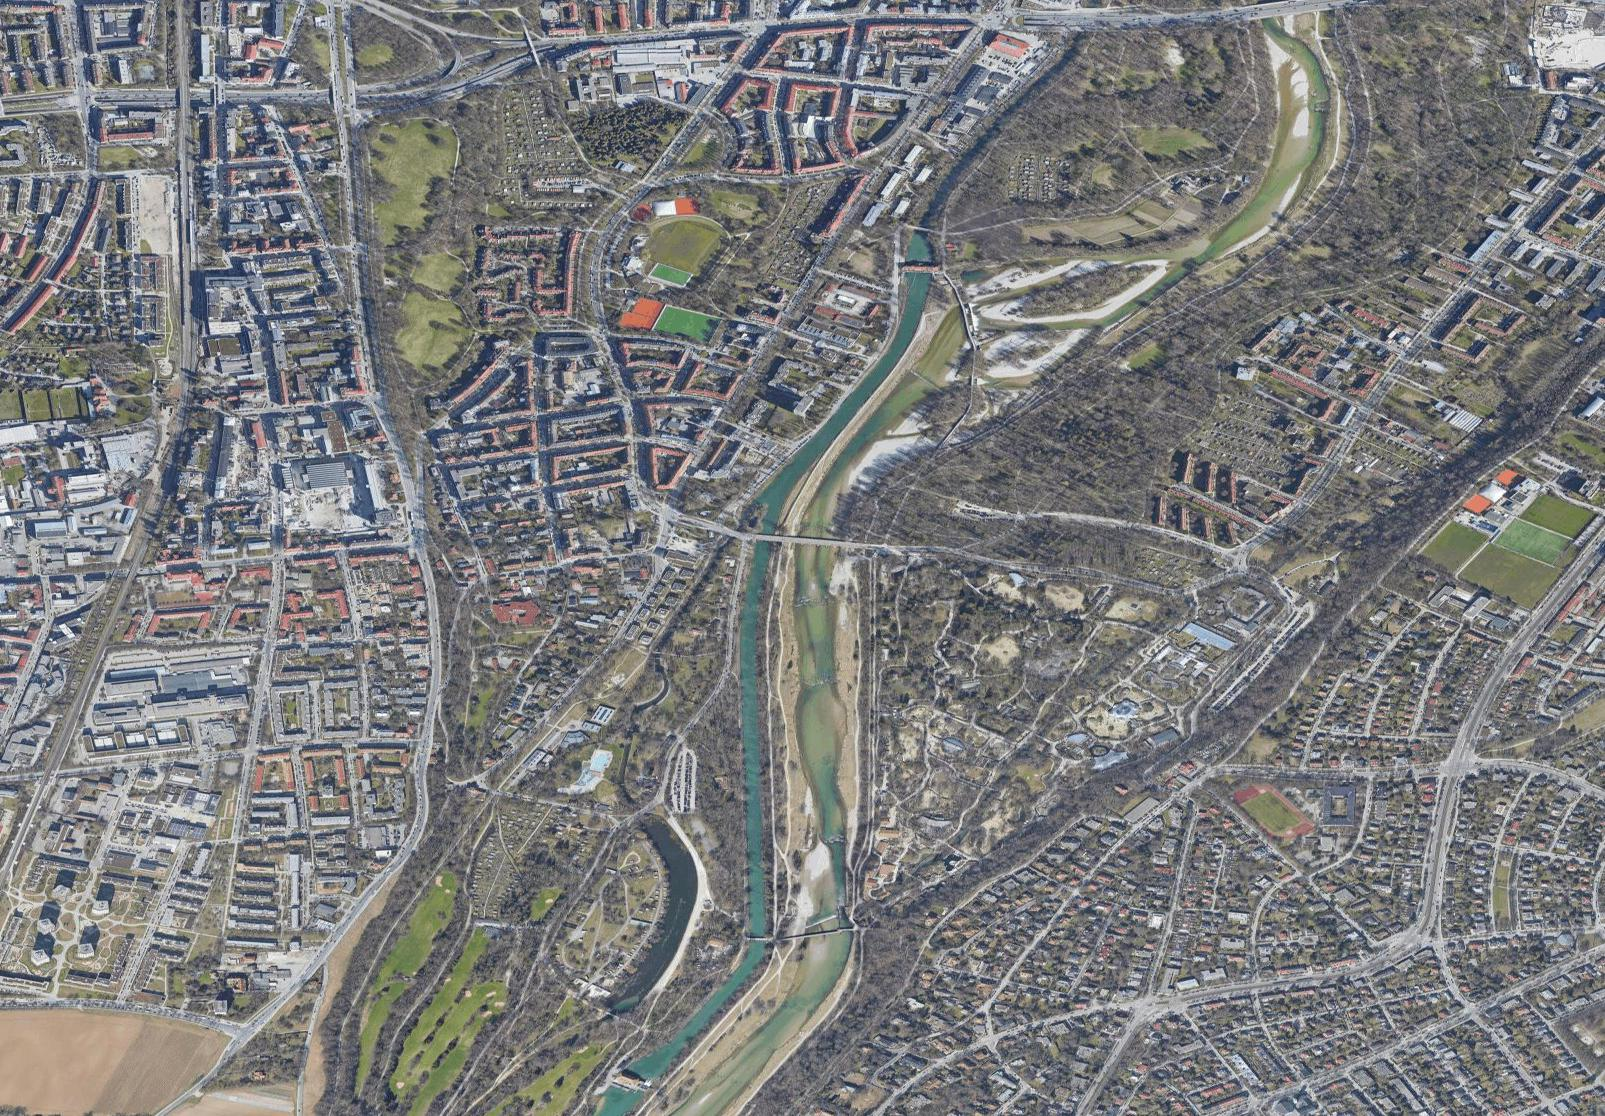bridge: (896, 255, 937, 279), (737, 926, 777, 950), (903, 217, 943, 241), (746, 526, 785, 550)
motorway: (1446, 638, 1527, 764), (282, 889, 374, 998), (1415, 757, 1471, 914), (1324, 907, 1440, 982), (1525, 531, 1605, 637), (368, 790, 435, 893), (324, 1, 363, 171), (212, 994, 289, 1077), (398, 490, 443, 592), (377, 392, 422, 492), (1174, 1, 1322, 30), (1024, 1, 1172, 30), (346, 283, 383, 394), (333, 173, 370, 284), (411, 593, 451, 690), (409, 692, 448, 789), (1137, 984, 1237, 1020), (1238, 964, 1331, 998)
